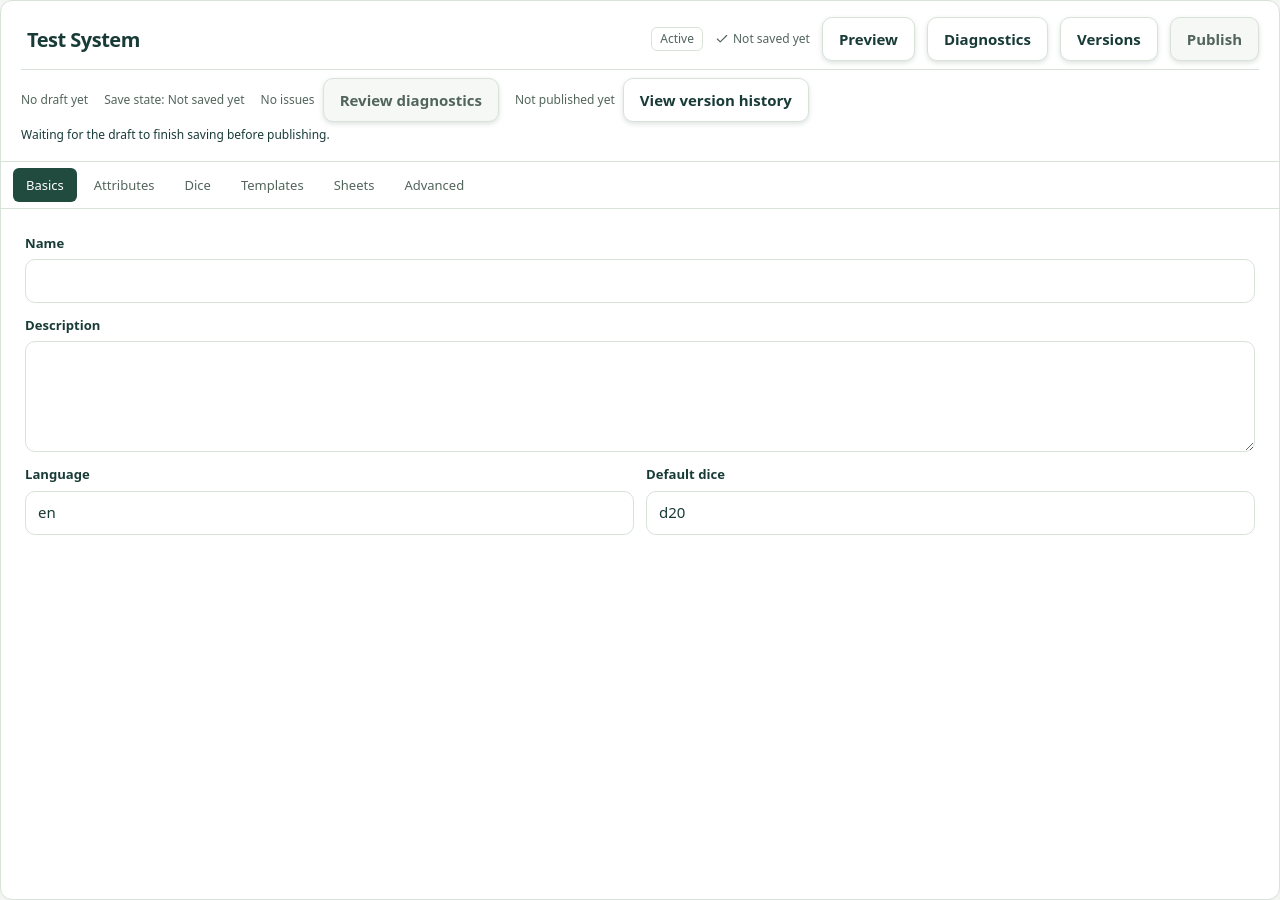
DocumentEditor › opens the version history panel when the versions toggle is clicked
Click the button with test id "document-editor-version-history-toggle". click: (1109, 39)
box: [1060,17,1158,61]
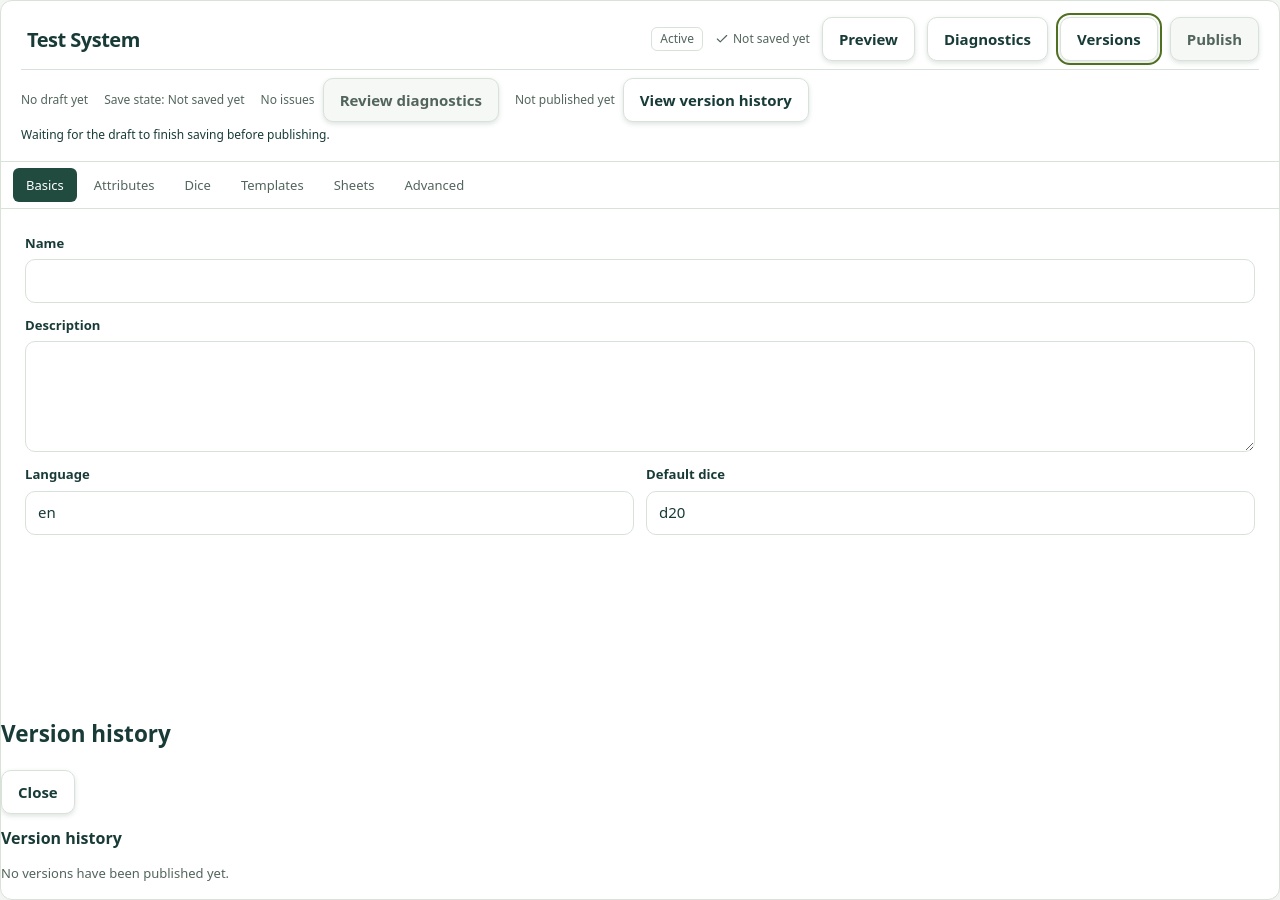
Now the element with test id "version-history" is shown, box [1,827,229,882]
